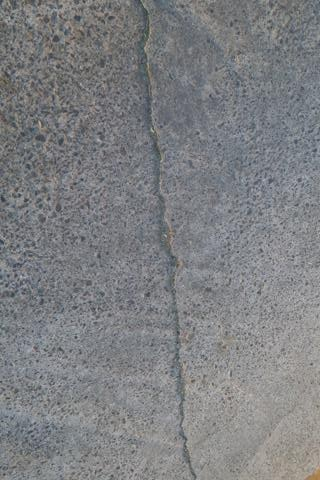A: (129, 4, 200, 479)
